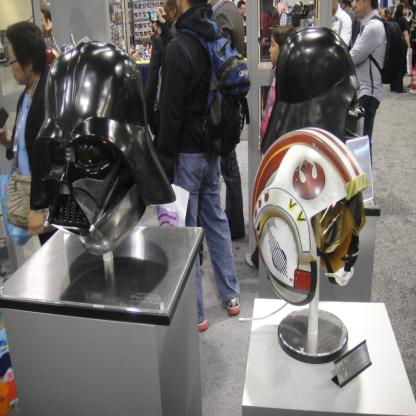Helmet: (21, 60, 170, 250), (238, 129, 369, 322), (260, 27, 364, 154)
